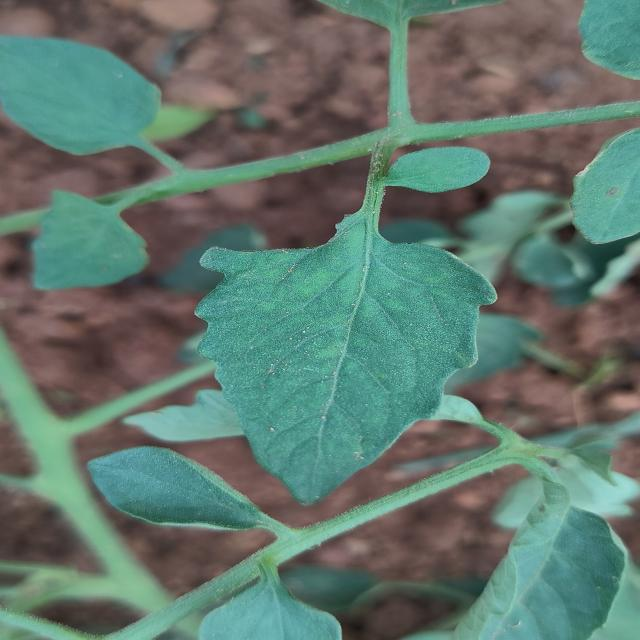tomato_healthy: (191, 223, 490, 511)
